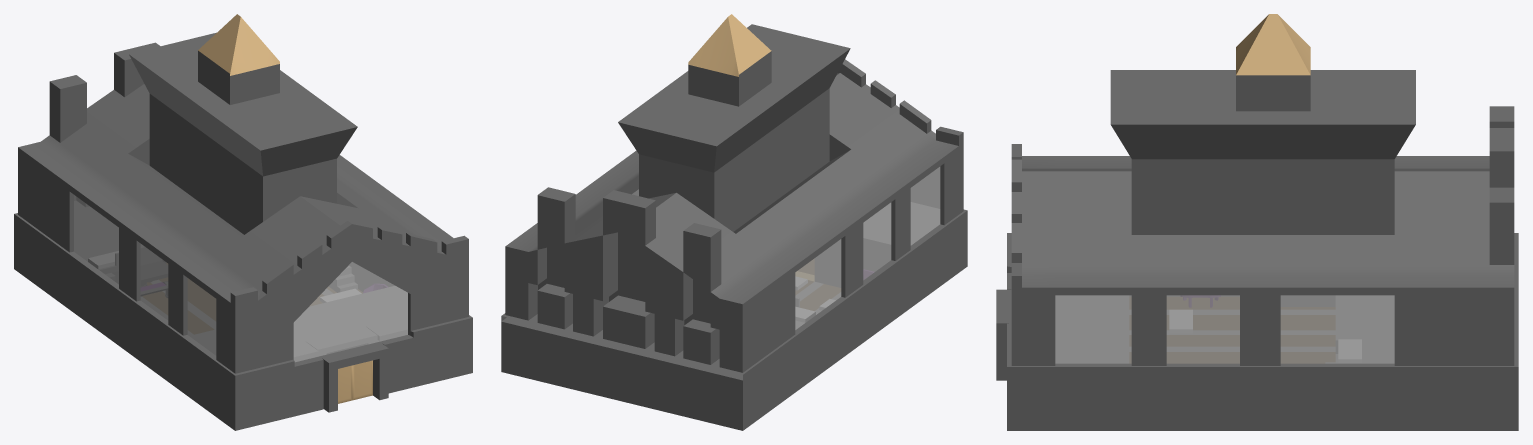
File: Mechanicsint2.fbx
The picture shows the model from 3 angles, left to right: view 1: azimuth 30°, elevation 25°; view 2: azimuth 150°, elevation 25°; view 3: azimuth 270°, elevation 25°; orthographic projection. The views are drawn at different scales.
Parts seen in each view (by area): view 1: Mechanics_association:pCube1, pipetable, stairs2; view 2: Mechanics_association:pCube1; view 3: Mechanics_association:pCube1, stairs1, tp5, tp10.
Part boxes in pixels (x1,y1,x2,y2): Mechanics_association:pCube1: [14, 14, 472, 430]; pipetable: [112, 261, 167, 286]; stairs2: [329, 266, 357, 292]; Mechanics_association:pCube1: [501, 14, 967, 430]; Mechanics_association:pCube1: [996, 14, 1518, 430]; stairs1: [1281, 295, 1335, 306]; tp5: [1169, 310, 1192, 333]; tp10: [1338, 339, 1361, 362].
Size of the model in its own units: 13.47 by 16.37 by 22.16.
